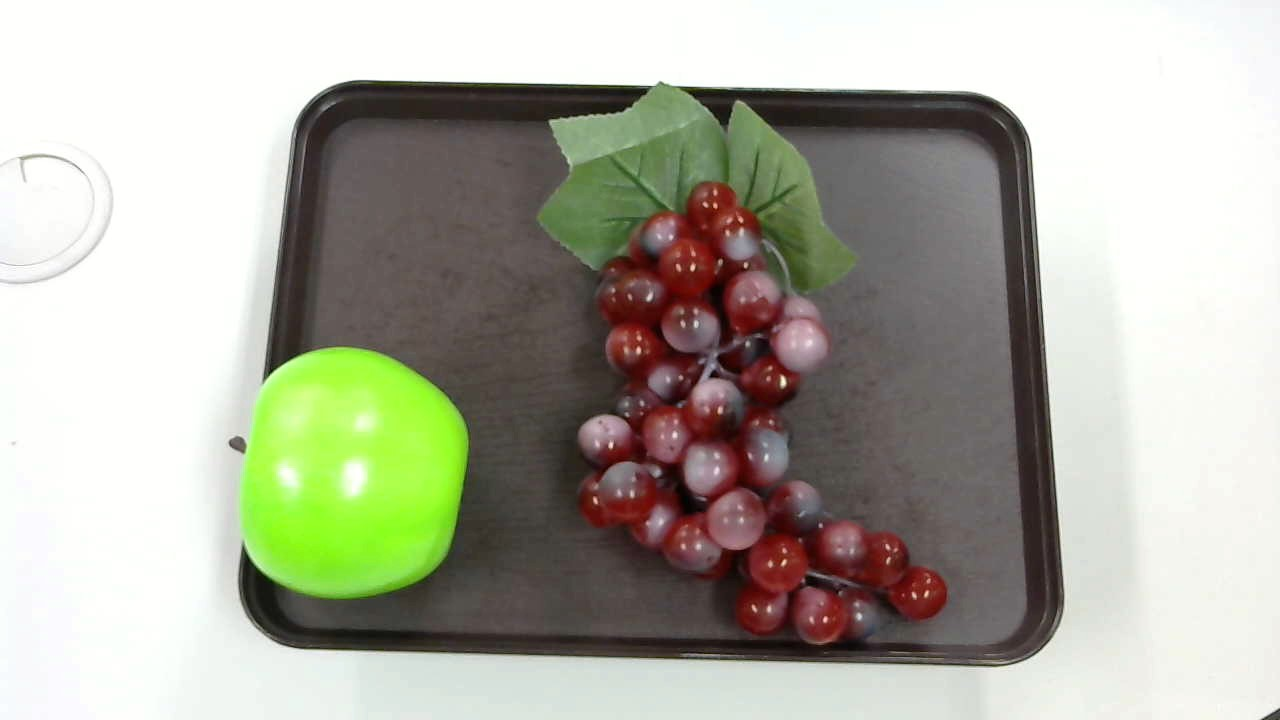grape: (540, 73, 956, 656)
green apple: (234, 349, 464, 598)
